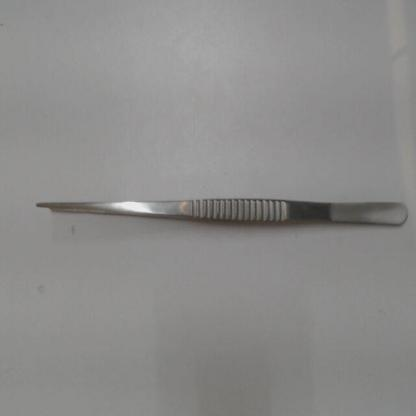DeBakey Dissector: (30, 192, 410, 246)
